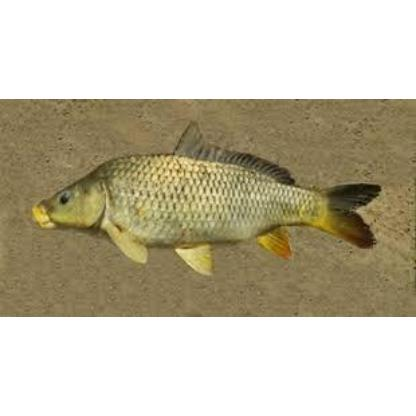ikan-mas: (29, 121, 379, 272)
